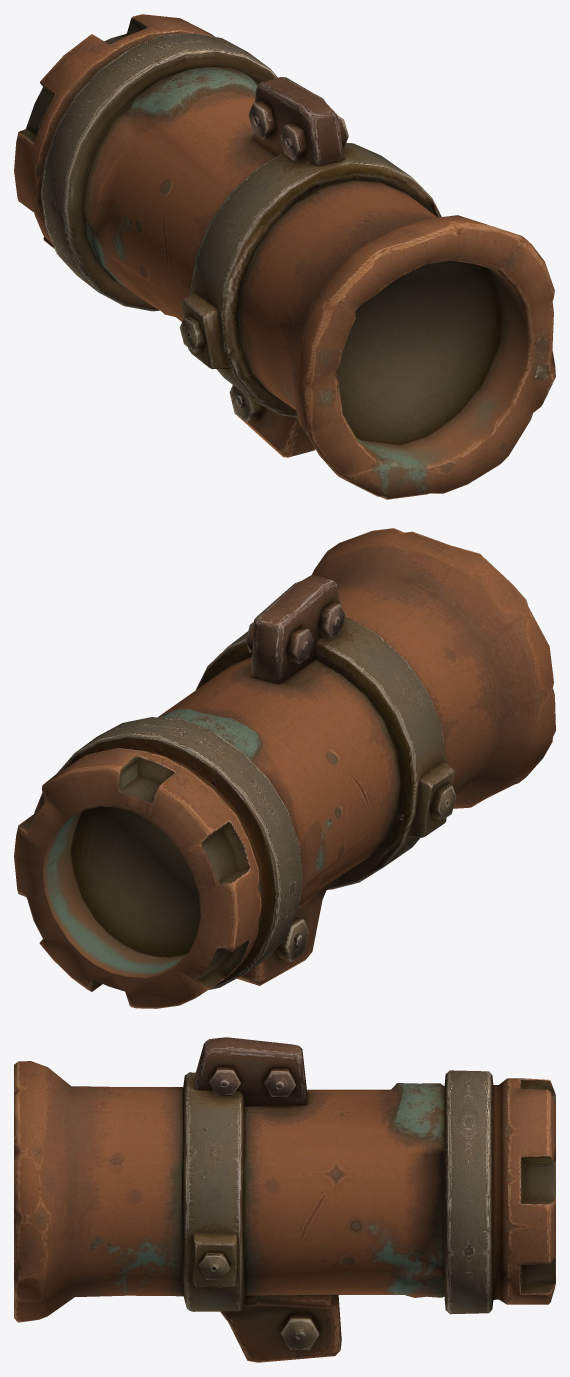
The model's file is RustyBarrel.fbx.
The picture shows the model from 3 angles, top to bottom: view 1: azimuth 30°, elevation 25°; view 2: azimuth 150°, elevation 25°; view 3: azimuth 270°, elevation 25°; orthographic projection. The views are drawn at different scales.
Parts seen in each view (by area): view 1: tripo_node_ba6e4840; view 2: tripo_node_ba6e4840; view 3: tripo_node_ba6e4840.
Boxes of the visible parts, x1,y1,x2,y2 form: tripo_node_ba6e4840: (14, 14, 555, 499); tripo_node_ba6e4840: (14, 528, 555, 1008); tripo_node_ba6e4840: (14, 1037, 555, 1362).
Bounding box in the file's own units: 0.4863 × 0.6426 × 0.998.
